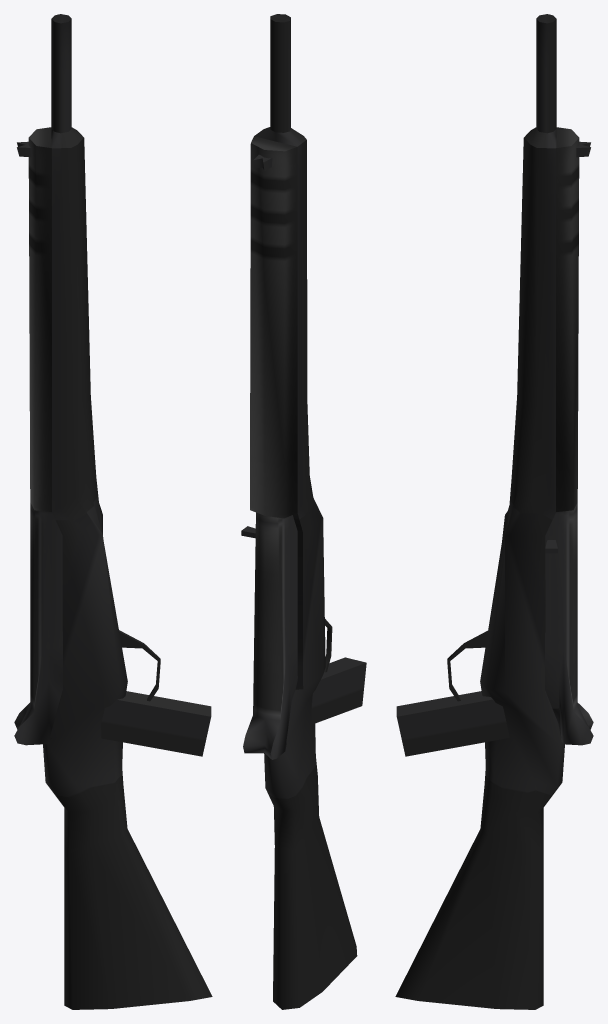
Rendered from G3_NoMagazine.fbx.
The picture shows the model from 3 angles, left to right: view 1: azimuth 90°, elevation 25°; view 2: azimuth 150°, elevation 25°; view 3: azimuth 270°, elevation 25°; orthographic projection.
Visible parts, largest first — view 1: node_01ad04d0_9ae3_4723_a41a_f70a8fdbbab7_mesh0; view 2: node_01ad04d0_9ae3_4723_a41a_f70a8fdbbab7_mesh0; view 3: node_01ad04d0_9ae3_4723_a41a_f70a8fdbbab7_mesh0.
Part boxes in pixels (<box>): node_01ad04d0_9ae3_4723_a41a_f70a8fdbbab7_mesh0: <box>14,14,212,1009</box>; node_01ad04d0_9ae3_4723_a41a_f70a8fdbbab7_mesh0: <box>241,14,366,1009</box>; node_01ad04d0_9ae3_4723_a41a_f70a8fdbbab7_mesh0: <box>395,14,593,1009</box>.
Bounding box in the file's own units: 0.0312 × 0.5347 × 0.0974.
